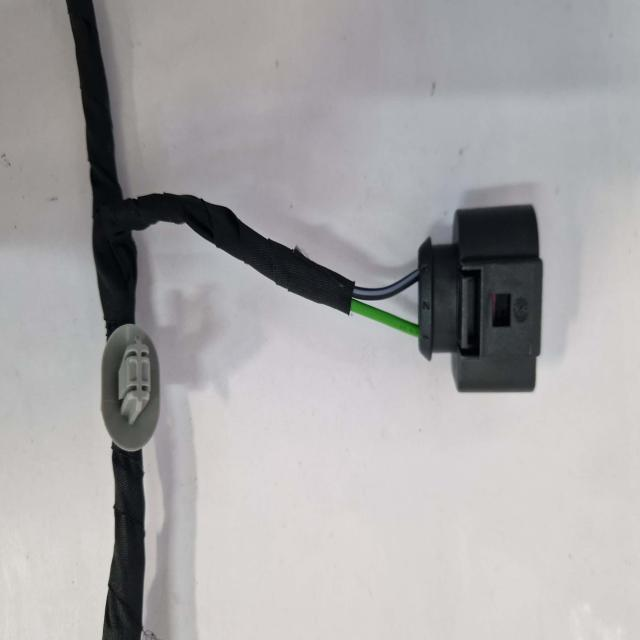Clip: (94, 317, 163, 461)
Connector: (411, 185, 551, 398)
Gape: (336, 262, 414, 340)
MHEV_N11_Cable: (66, 29, 374, 340), (99, 447, 146, 640)
